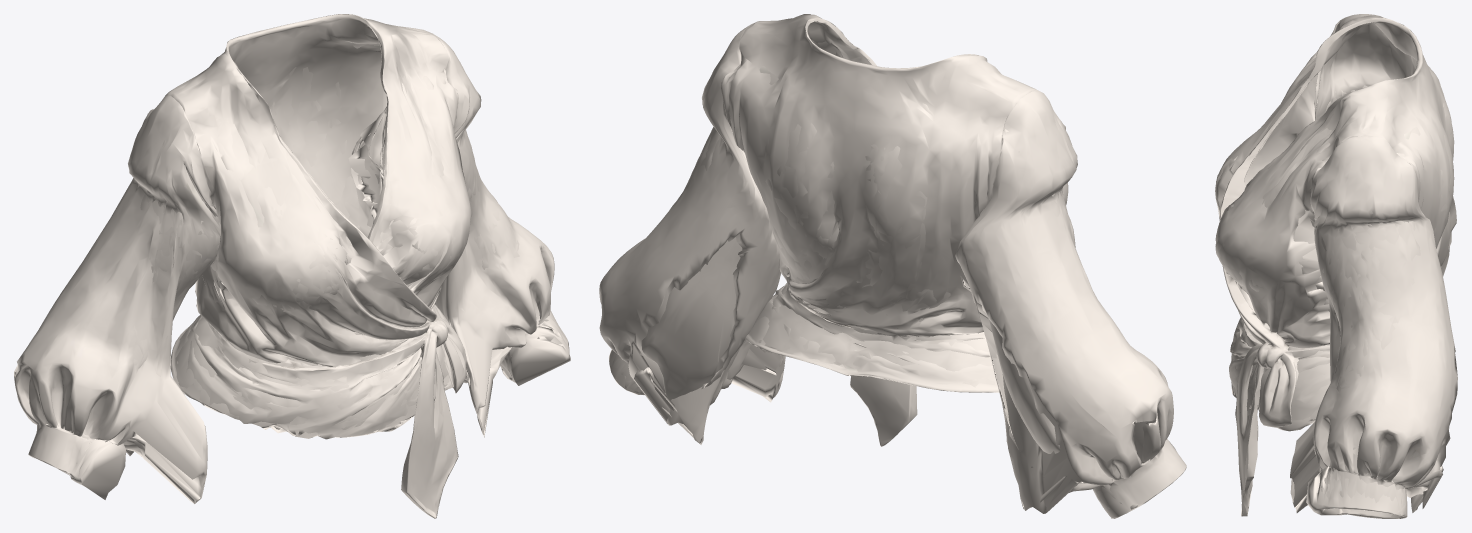
The model's file is top_f_wrap.glb.
3 renders of one model, left to right at view 1: azimuth 30°, elevation 25°; view 2: azimuth 150°, elevation 25°; view 3: azimuth 270°, elevation 25°, orthographic. The views are drawn at different scales.
Visible parts, largest first — view 1: f_wrap; view 2: f_wrap; view 3: f_wrap.
Part boxes in pixels (bbox=[...]): f_wrap: bbox=[14, 14, 570, 518]; f_wrap: bbox=[599, 14, 1186, 518]; f_wrap: bbox=[1215, 14, 1457, 518].
Bounding box in the file's own units: 0.8445 × 0.6902 × 0.3491.
1 material, 1 textured.
